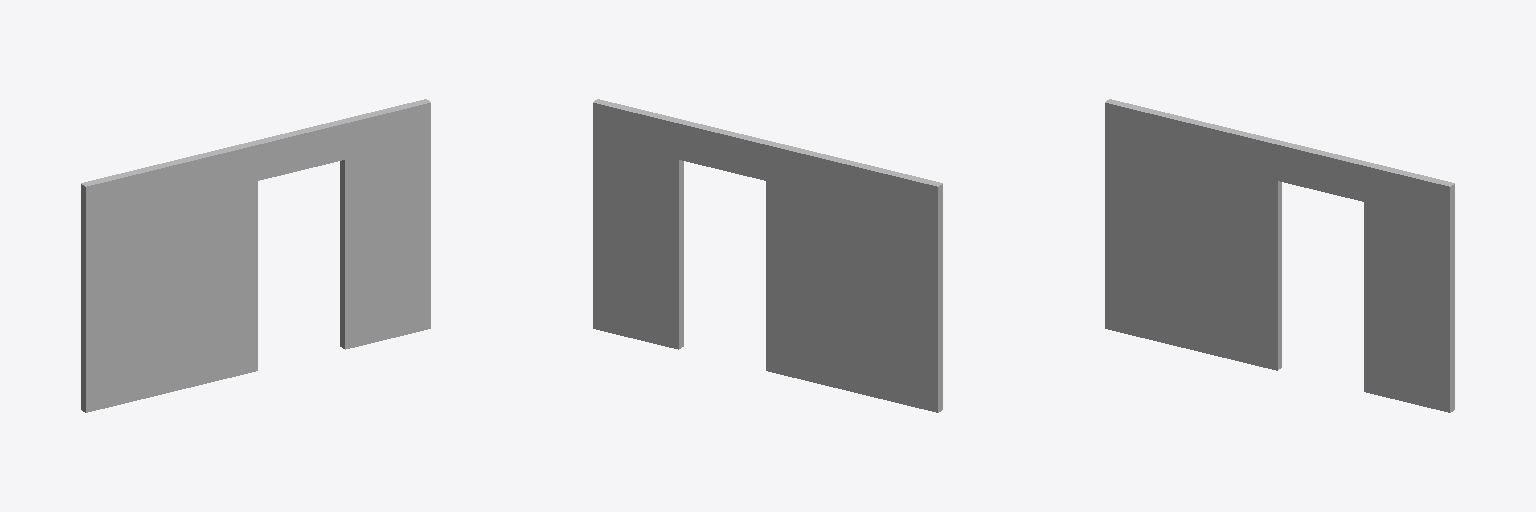
File: wall_8.obj
The picture shows the model from 3 angles: view 1: azimuth 30°, elevation 25°; view 2: azimuth 150°, elevation 25°; view 3: azimuth 330°, elevation 25°; orthographic projection.
Visible parts, largest first — view 1: polySurface8 wall_4; view 2: polySurface8 wall_4; view 3: polySurface8 wall_4.
Boxes of the visible parts, box(x1,y1,x2,y2) form: polySurface8 wall_4: box(81, 99, 430, 412); polySurface8 wall_4: box(593, 99, 942, 412); polySurface8 wall_4: box(1105, 99, 1454, 412).
Bounding box in the file's own units: 4 × 2.5 × 0.1.